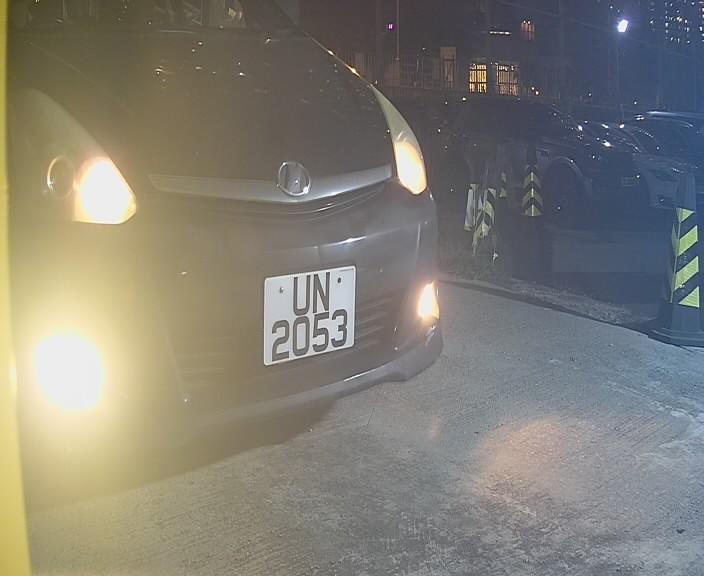Car: (32, 11, 513, 497)
License Plate: (255, 253, 365, 381)
